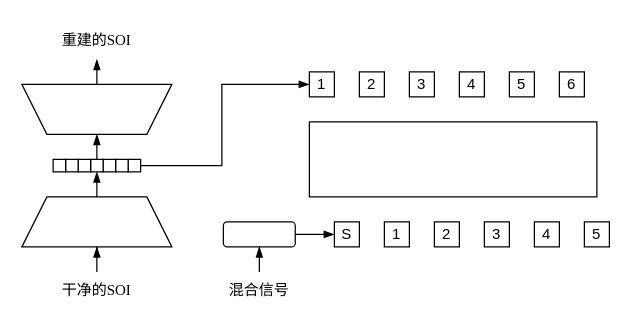
Some shapes in this 631 by 330 pixel diagram are drawn without their labels. The centre of each missing label's shape, as x and y in pixels:
"Transformer" goes at pixel 452 159.
"窗口化" goes at pixel 258 234.
"编码" goes at pixel 96 221.
"解码" goes at pixel 96 108.
